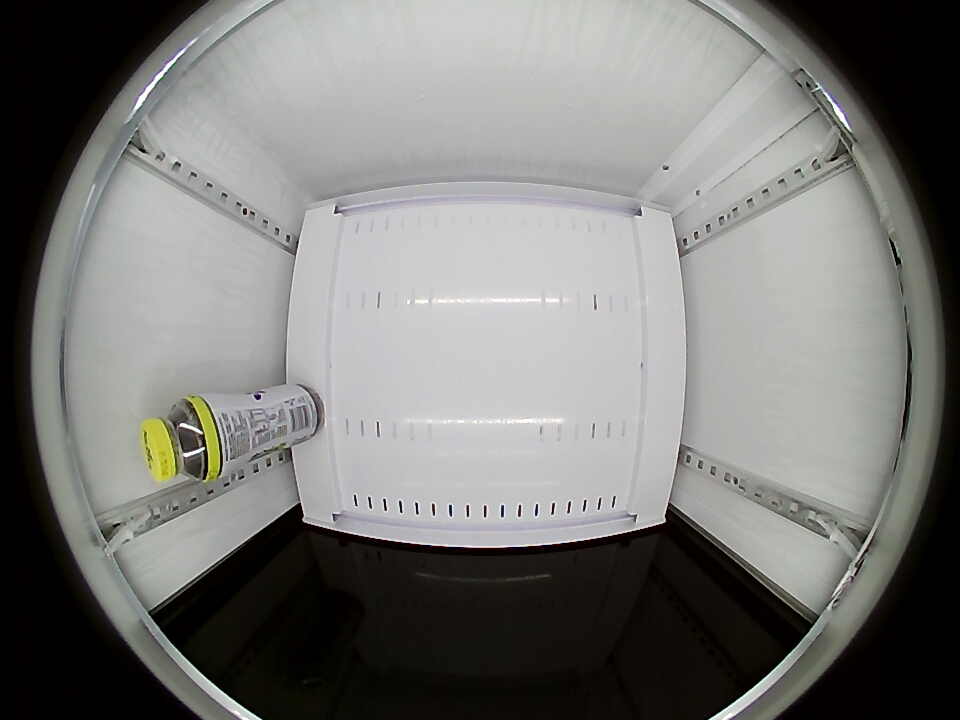chacui: (140, 395, 223, 484)
